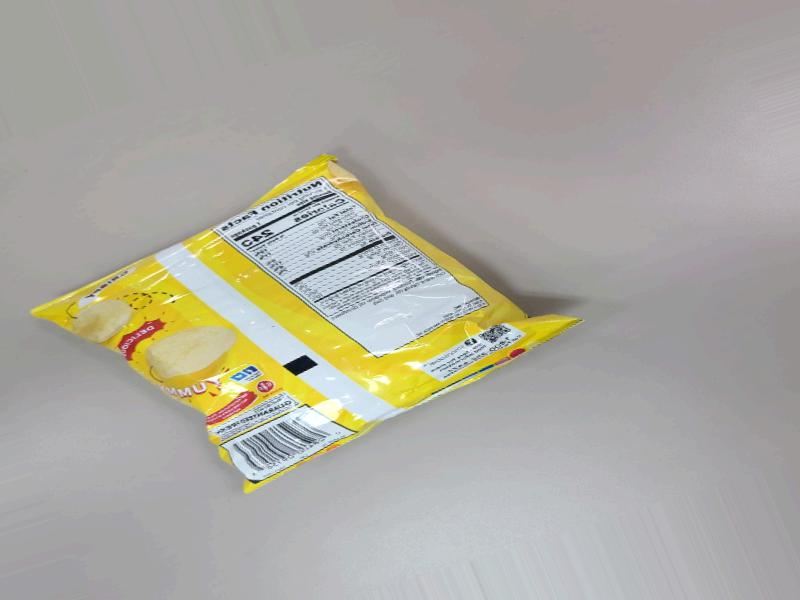lays: (90, 257, 669, 477)
